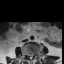CCS_normal: (30, 52, 32, 61)
LFS_stenosis: (34, 51, 36, 56)
LLS_normal: (32, 52, 34, 57)
RFS_stenosis: (25, 52, 28, 56)
RLS_normal: (28, 52, 30, 58)
